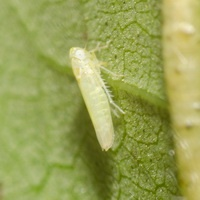insect: (69, 47, 124, 150)
